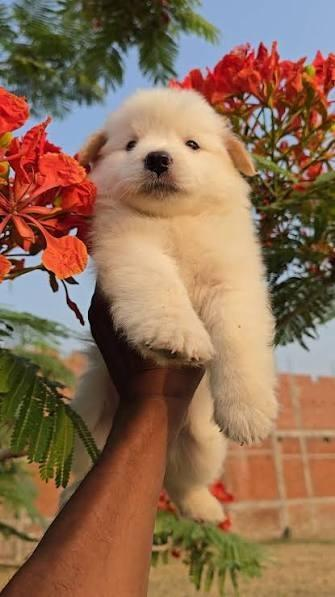puppy-dog: (52, 87, 281, 526)
